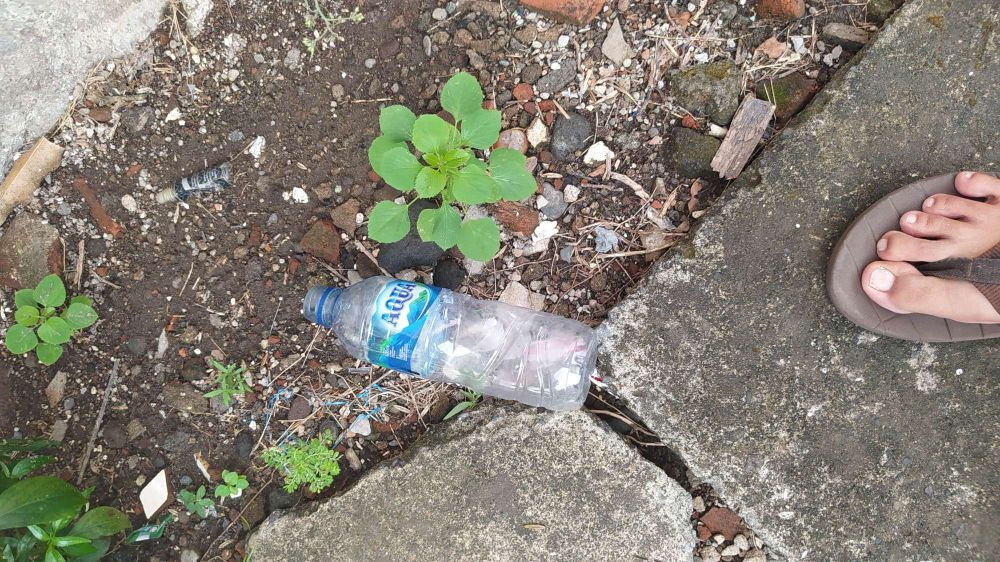botol: (234, 255, 621, 421)
